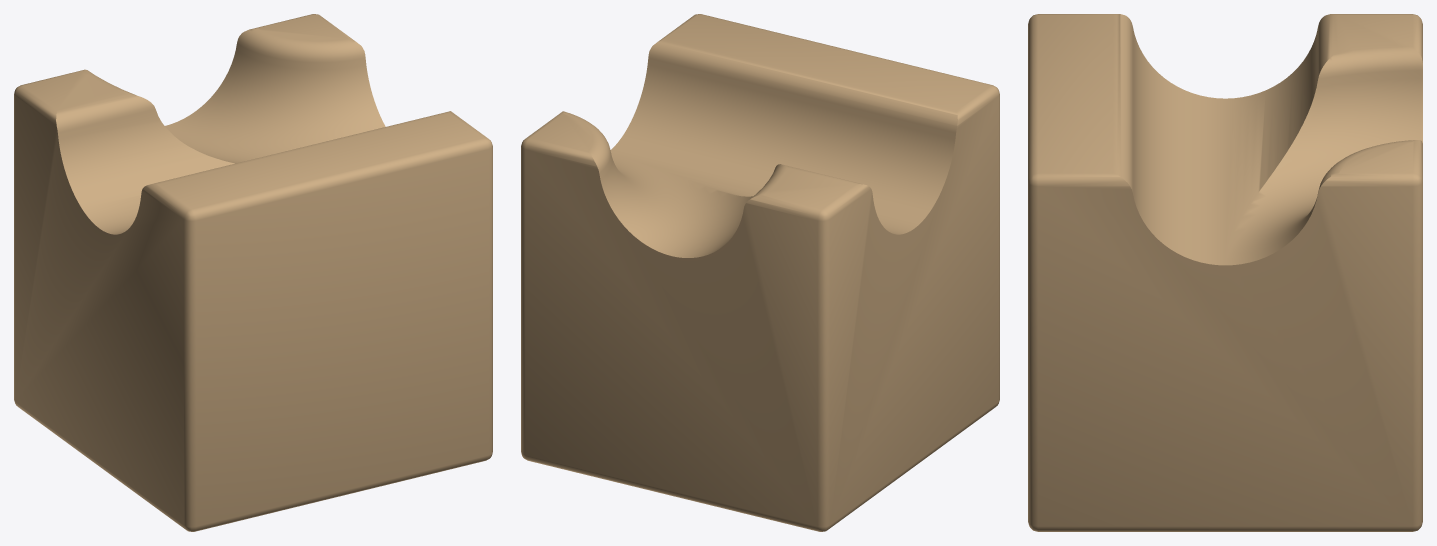
File: blk_join_l3.glb
3 views of the same model, side by side, from view 1: azimuth 30°, elevation 25°; view 2: azimuth 150°, elevation 25°; view 3: azimuth 270°, elevation 25° (orthographic). The views are drawn at different scales.
Parts seen in each view (by area): view 1: blk_join_l3_lod0; view 2: blk_join_l3_lod0; view 3: blk_join_l3_lod0.
Part boxes in pixels (x1,y1,x2,y2): blk_join_l3_lod0: (14,14,492,531); blk_join_l3_lod0: (521,14,999,531); blk_join_l3_lod0: (1028,14,1422,531).
Size of what is drawn, in the model's own units: 0.059 by 0.059 by 0.059.
